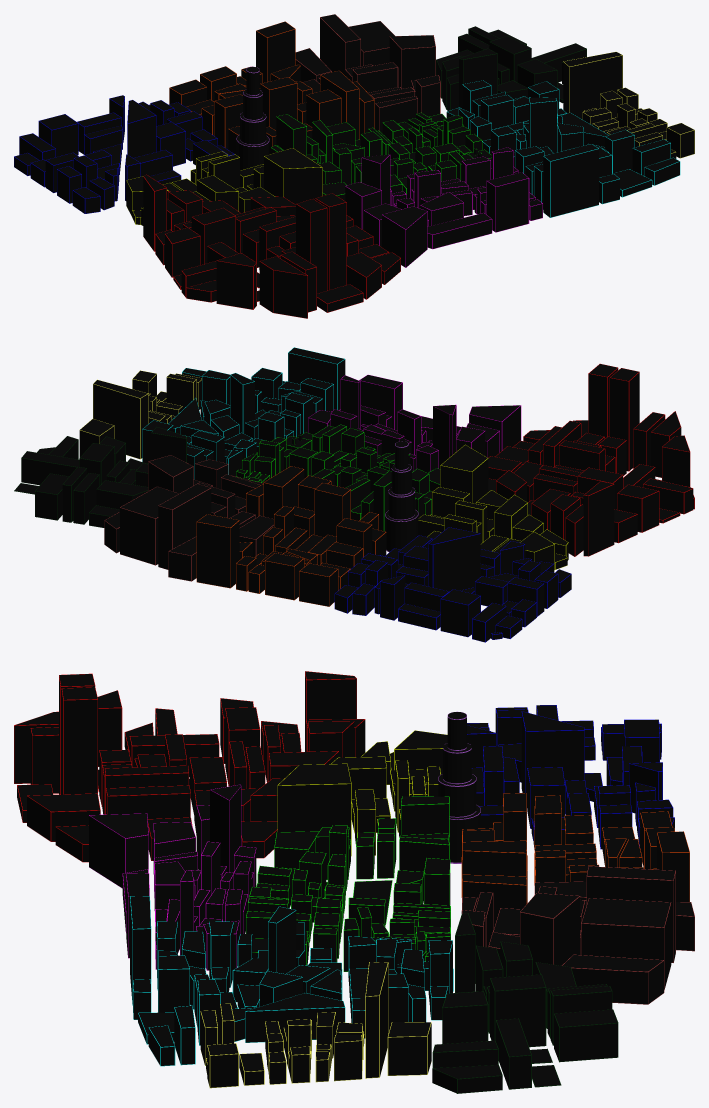
The model's file is Seleccion_nivel (1).FBX.
The picture shows the model from 3 angles, top to bottom: view 1: azimuth 30°, elevation 25°; view 2: azimuth 150°, elevation 25°; view 3: azimuth 270°, elevation 25°; orthographic projection. The views are drawn at different scales.
Parts seen in each view (by area): view 1: Line229, Line331, Line150, Line131, Torre, Line106, Line126, fucsia, Line133, Line264, Line128, Line265 (+75 smaller); view 2: Line179, Line217, Line331, Line271, Line265, Torre, Line126, Line140, Line150, Line229, Line197, Line128 (+92 smaller); view 3: Line271, Line150, Line128, Torre, Line264, fucsia, Line179, Line270, Line306, Line265, Line295, Ultimo azul claro (+97 smaller).
Boxes of the visible parts, left/top/right/bottom form: Line229: left=543, top=144, right=598, bottom=217; Line331: left=563, top=51, right=622, bottom=119; Line150: left=264, top=148, right=322, bottom=204; Line131: left=259, top=256, right=307, bottom=318; Torre: left=236, top=66, right=269, bottom=170; Line106: left=486, top=172, right=529, bottom=232; Line126: left=296, top=199, right=327, bottom=293; fucsia: left=382, top=206, right=427, bottom=267; Line133: left=216, top=253, right=256, bottom=309; Line264: left=389, top=35, right=435, bottom=88; Line128: left=315, top=193, right=346, bottom=290; Line265: left=320, top=14, right=360, bottom=75; Line179: left=428, top=527, right=480, bottom=591; Line217: left=196, top=514, right=239, bottom=588; Line331: left=93, top=379, right=148, bottom=459; Line271: left=120, top=486, right=178, bottom=565; Line265: left=158, top=483, right=211, bottom=569; Torre: left=385, top=441, right=418, bottom=552; Line126: left=609, top=368, right=639, bottom=471; Line140: left=583, top=481, right=614, bottom=556; Line150: left=440, top=444, right=488, bottom=503; Line229: left=288, top=347, right=345, bottom=410; Line197: left=314, top=483, right=350, bottom=537; Line128: left=588, top=363, right=618, bottom=438; Line271: left=581, top=898, right=671, bottom=989; Line150: left=277, top=763, right=351, bottom=856; Line128: left=61, top=687, right=97, bottom=794; Torre: left=438, top=711, right=480, bottom=863; Line264: left=520, top=893, right=579, bottom=974; fucsia: left=89, top=813, right=148, bottom=888; Line179: left=521, top=711, right=584, bottom=807; Line270: left=562, top=954, right=664, bottom=1004; Line306: left=490, top=974, right=546, bottom=1047; Line265: left=586, top=866, right=675, bottom=962; Line295: left=554, top=1009, right=618, bottom=1062; Ultimo azul claro: left=245, top=993, right=345, bottom=1042.
Bounding box in the file's own units: 44.67 × 8.19 × 36.05.
